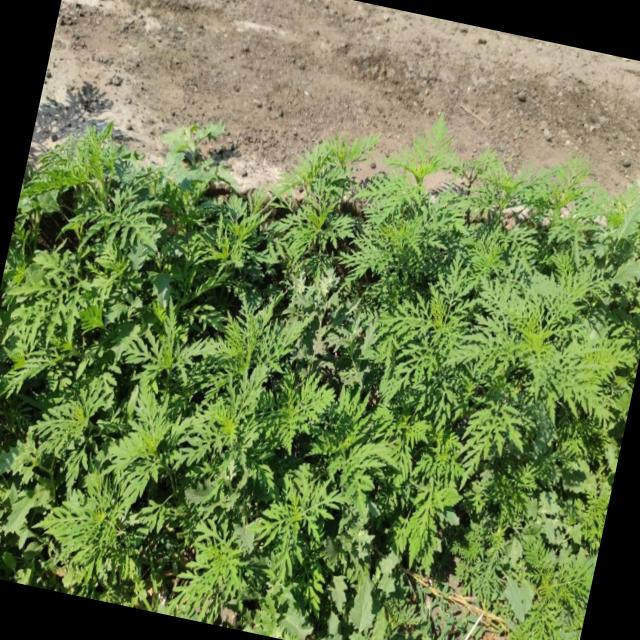ambrosia: (5, 109, 196, 386), (156, 294, 330, 500), (443, 256, 622, 433), (352, 102, 483, 307), (32, 434, 160, 596), (276, 130, 374, 276)
